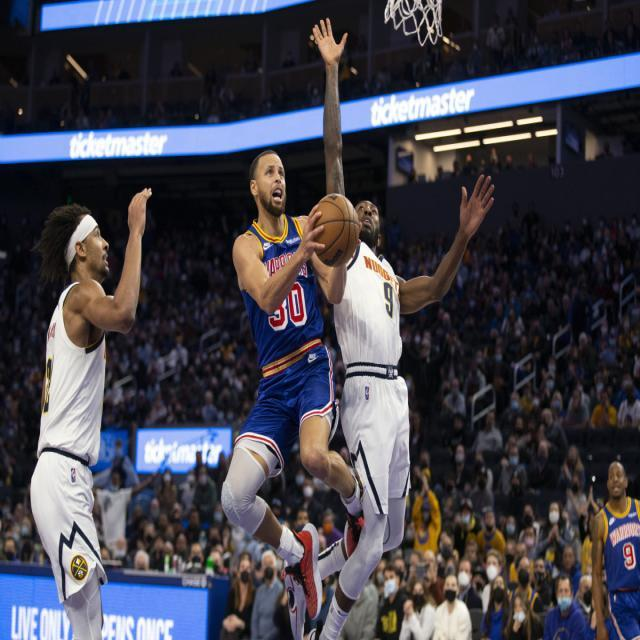rim: (315, 195, 358, 264)
